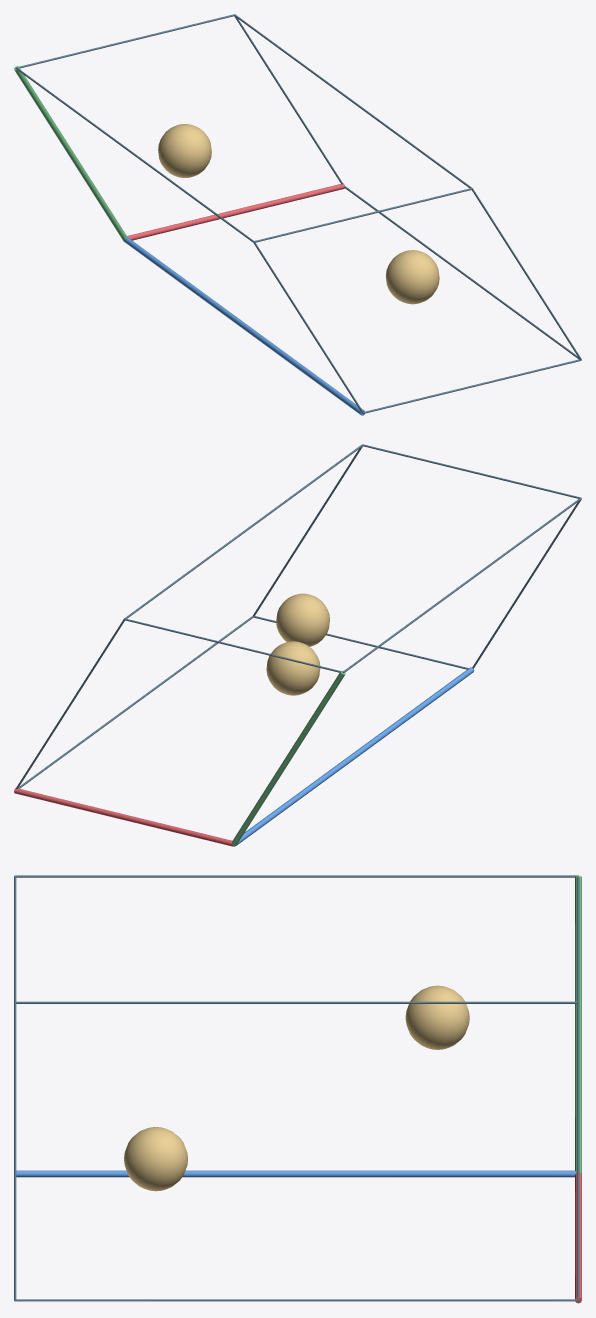
The model's file is nguyen-to-cd.glb.
3 renders of one model, top to bottom at view 1: azimuth 30°, elevation 25°; view 2: azimuth 150°, elevation 25°; view 3: azimuth 270°, elevation 25°, orthographic. The views are drawn at different scales.
Parts seen in each view (by area): view 1: Ô mạng và các trục a, b, c, Cd · Cd · 1 (×2); view 2: Ô mạng và các trục a, b, c, Cd · Cd · 1 (×2); view 3: Ô mạng và các trục a, b, c, Cd · Cd · 1 (×2).
Part boxes in pixels (left/top/right/bottom): Ô mạng và các trục a, b, c: left=14, top=14, right=581, bottom=415; Cd · Cd · 1 (×2): left=158, top=124, right=439, bottom=304; Ô mạng và các trục a, b, c: left=14, top=444, right=581, bottom=846; Cd · Cd · 1 (×2): left=266, top=593, right=329, bottom=695; Ô mạng và các trục a, b, c: left=14, top=875, right=581, bottom=1303; Cd · Cd · 1 (×2): left=124, top=985, right=469, bottom=1191.
Size of the model in its own units: 4.5 by 2.63 by 5.65.
